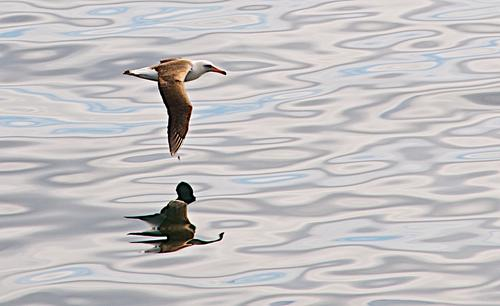002.Laysan_Albatross: (123, 54, 227, 156)
